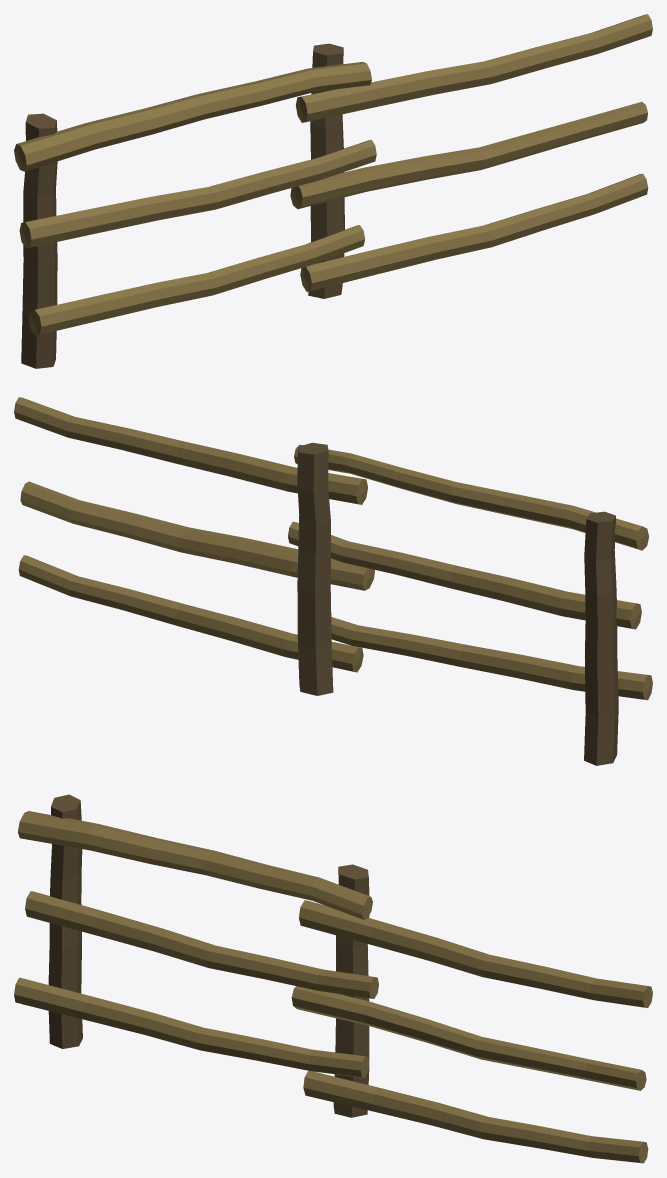
The model's file is FenceMiddle.fbx.
3 views of the same model, one above another, from view 1: azimuth 30°, elevation 25°; view 2: azimuth 150°, elevation 25°; view 3: azimuth 330°, elevation 25° (orthographic).
Parts seen in each view (by area): view 1: pCylinder12; view 2: pCylinder12; view 3: pCylinder12.
Boxes of the visible parts, left/top/right/bottom form: pCylinder12: left=14, top=14, right=652, bottom=368; pCylinder12: left=14, top=397, right=652, bottom=765; pCylinder12: left=14, top=794, right=652, bottom=1163.
Size of the model in its own units: 45.3 by 16.7 by 4.65.
